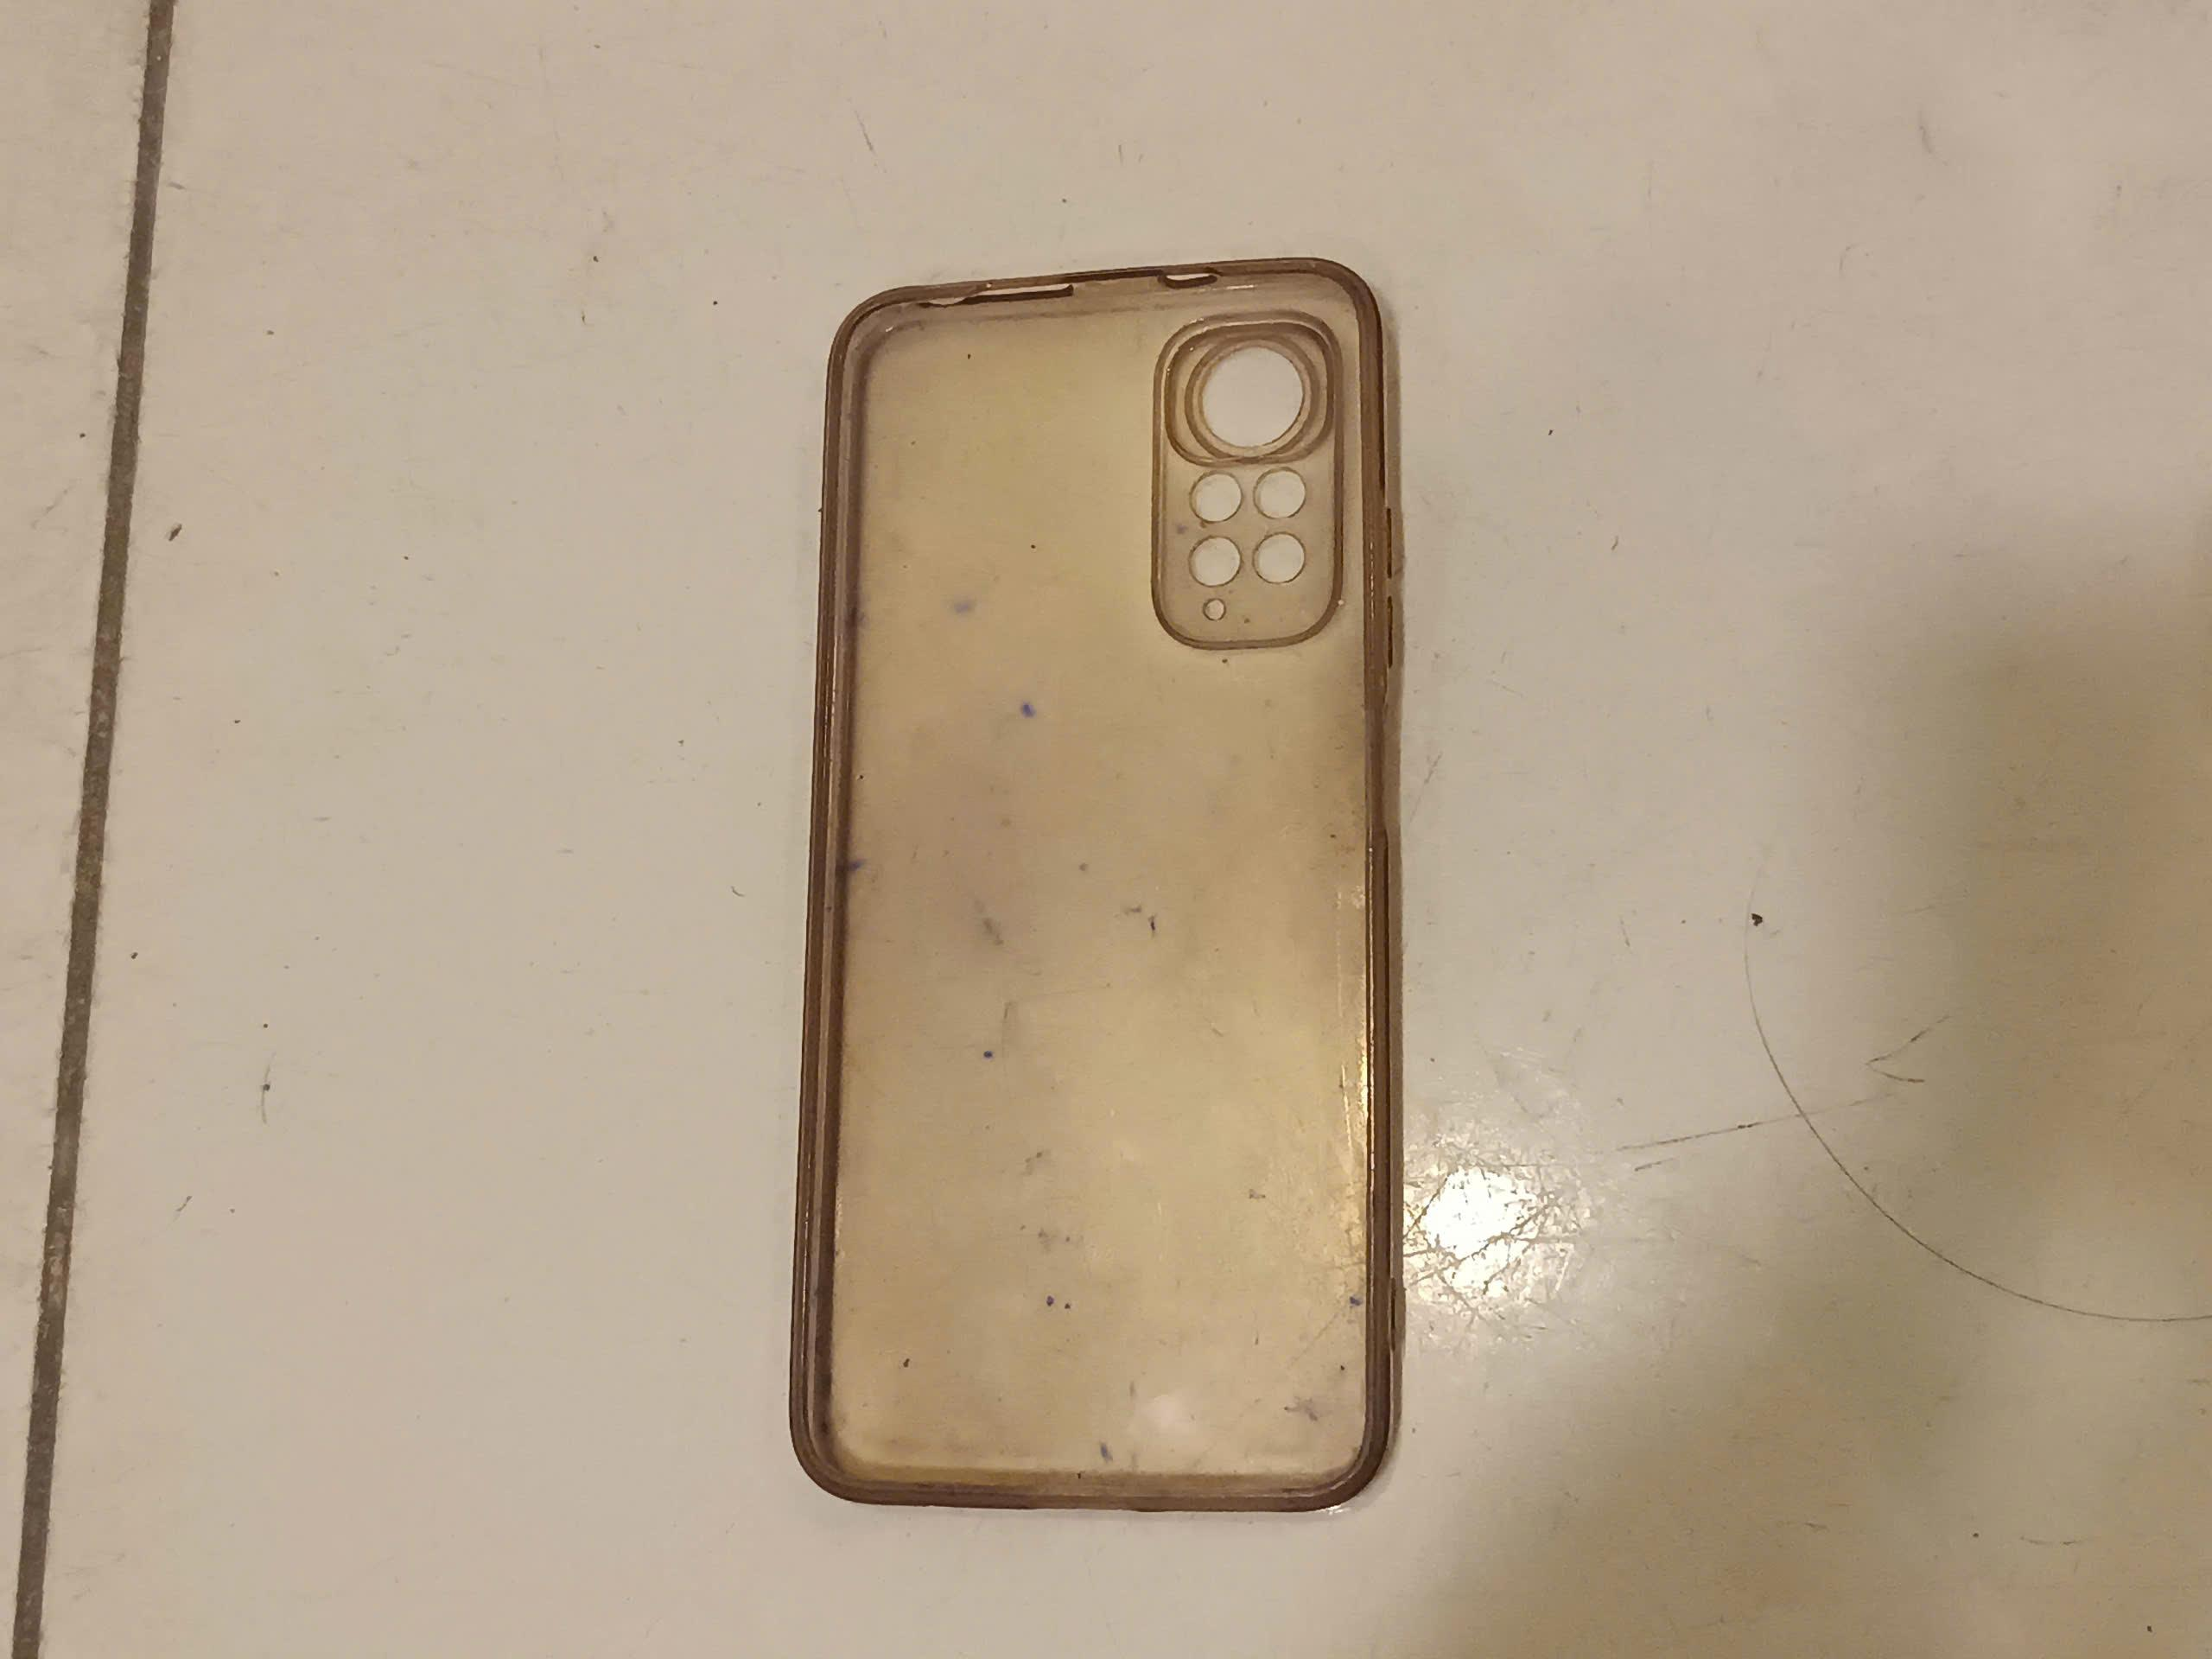Vo co: (784, 246, 1414, 1521)
